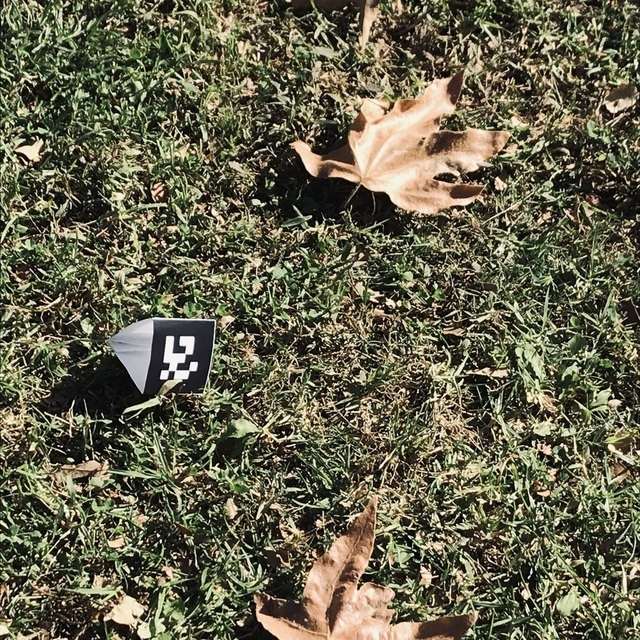ARTag: (106, 316, 218, 398)
